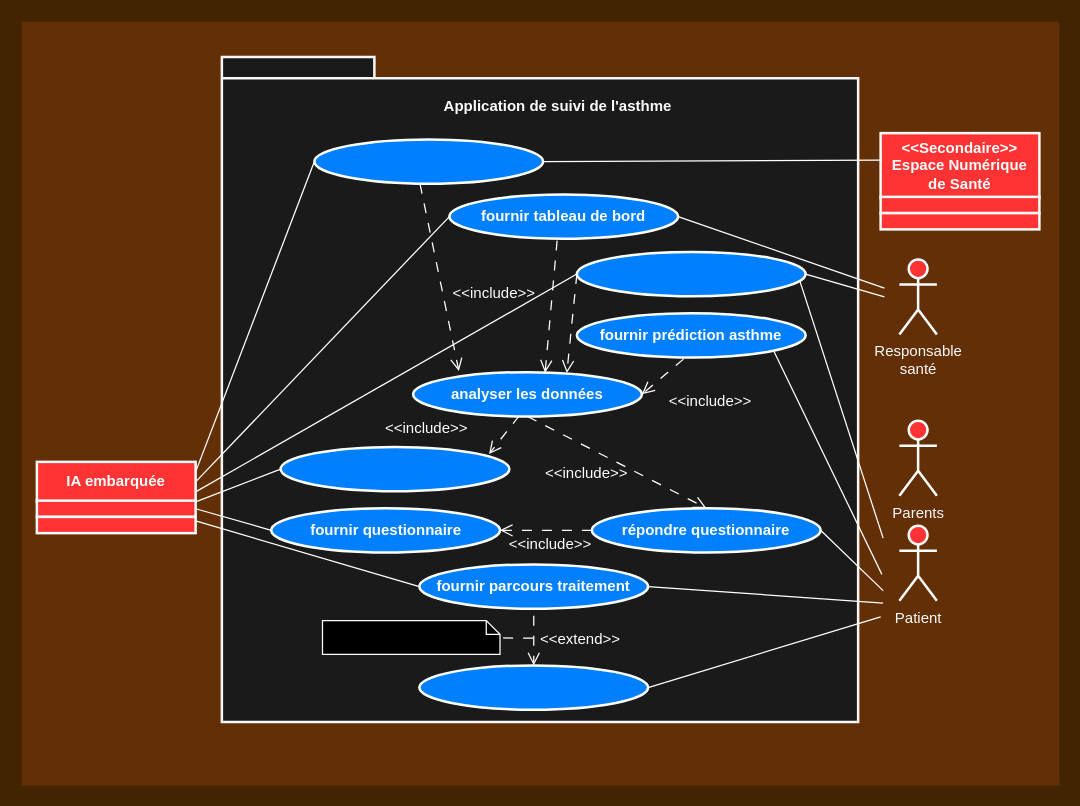
This 1080x806 diagram has some shape labels left out. The centre of each missing label's shape, as x and y in pixels:
alerter rupture parcours: the point at 533,687
condition: {streak = 0}: the point at 410,636
Envoyer les données: the point at 428,161
fournir suivi état de santé: the point at 690,273
se connecter aux capteurs: the point at 394,468
